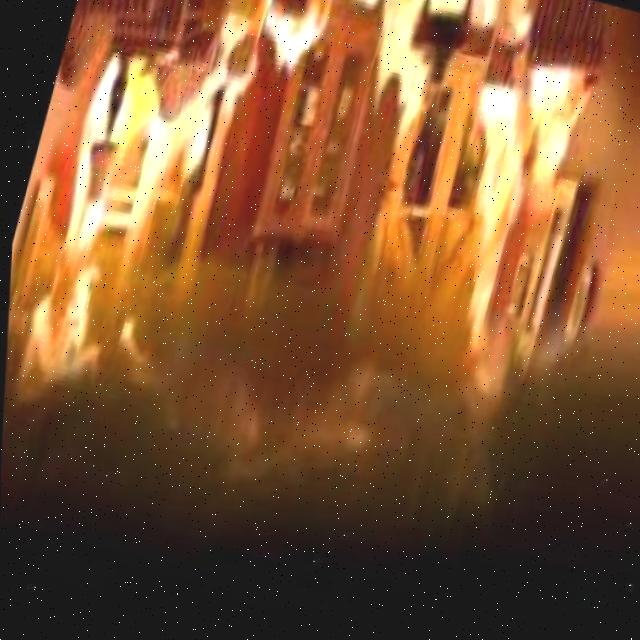fire: (5, 50, 169, 406), (402, 86, 550, 376), (482, 46, 595, 248), (144, 0, 248, 215), (331, 0, 460, 152), (242, 0, 326, 110)
